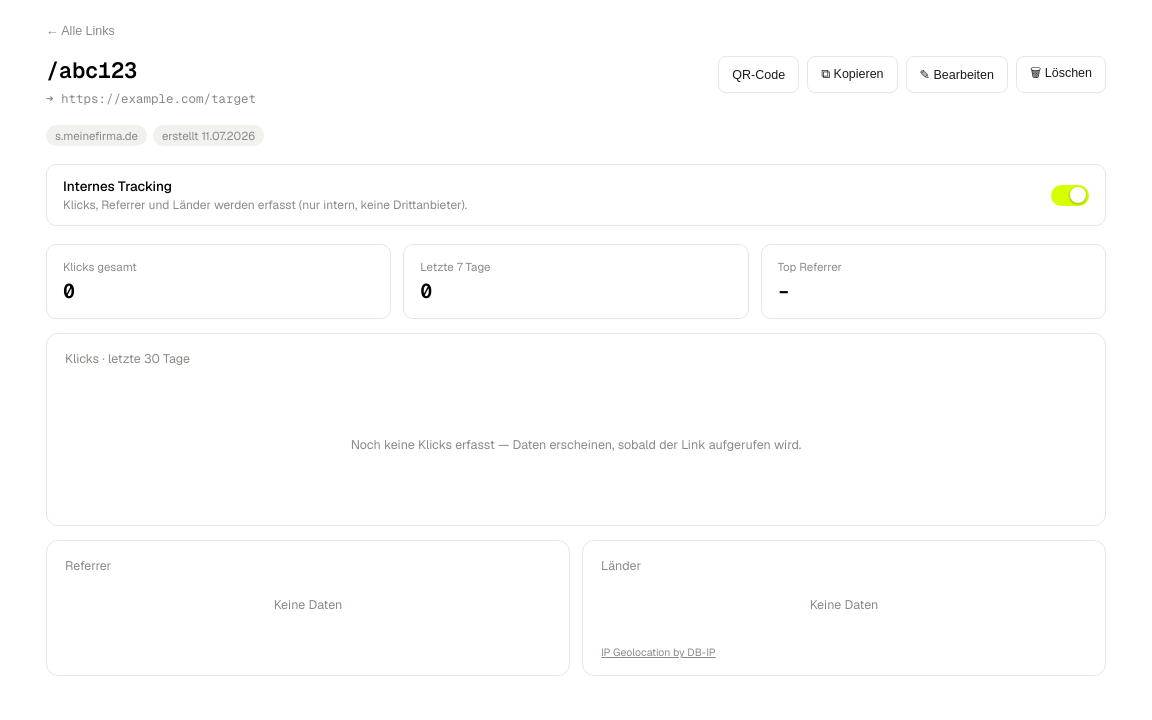
Test: LinkDetailView › toggle: clicking optimistically flips state, PATCHes via updateLink, and shows NO success toast
What coordinates should you click on to do the following:
click the switch with class "toggle"
I would click on:
 (1070, 195)
Its box is [1051,184,1089,206].
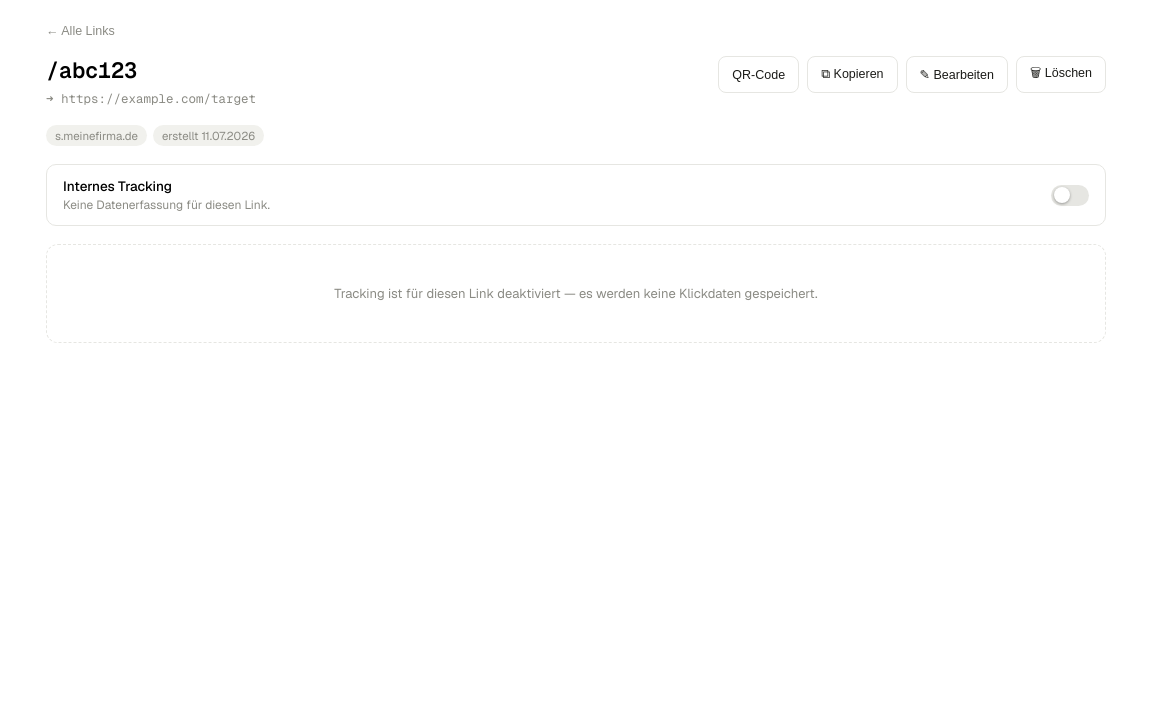
Now the text with class "dashed-empty" is shown, box [46,244,1106,343]
